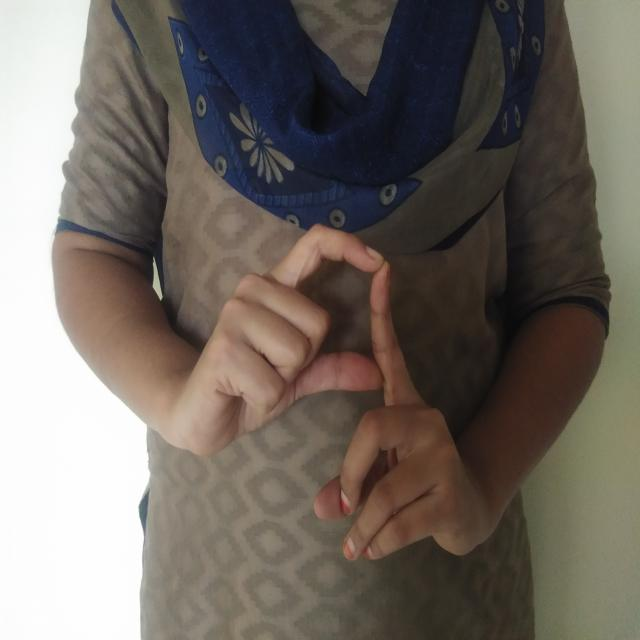D: (180, 213, 504, 574)
